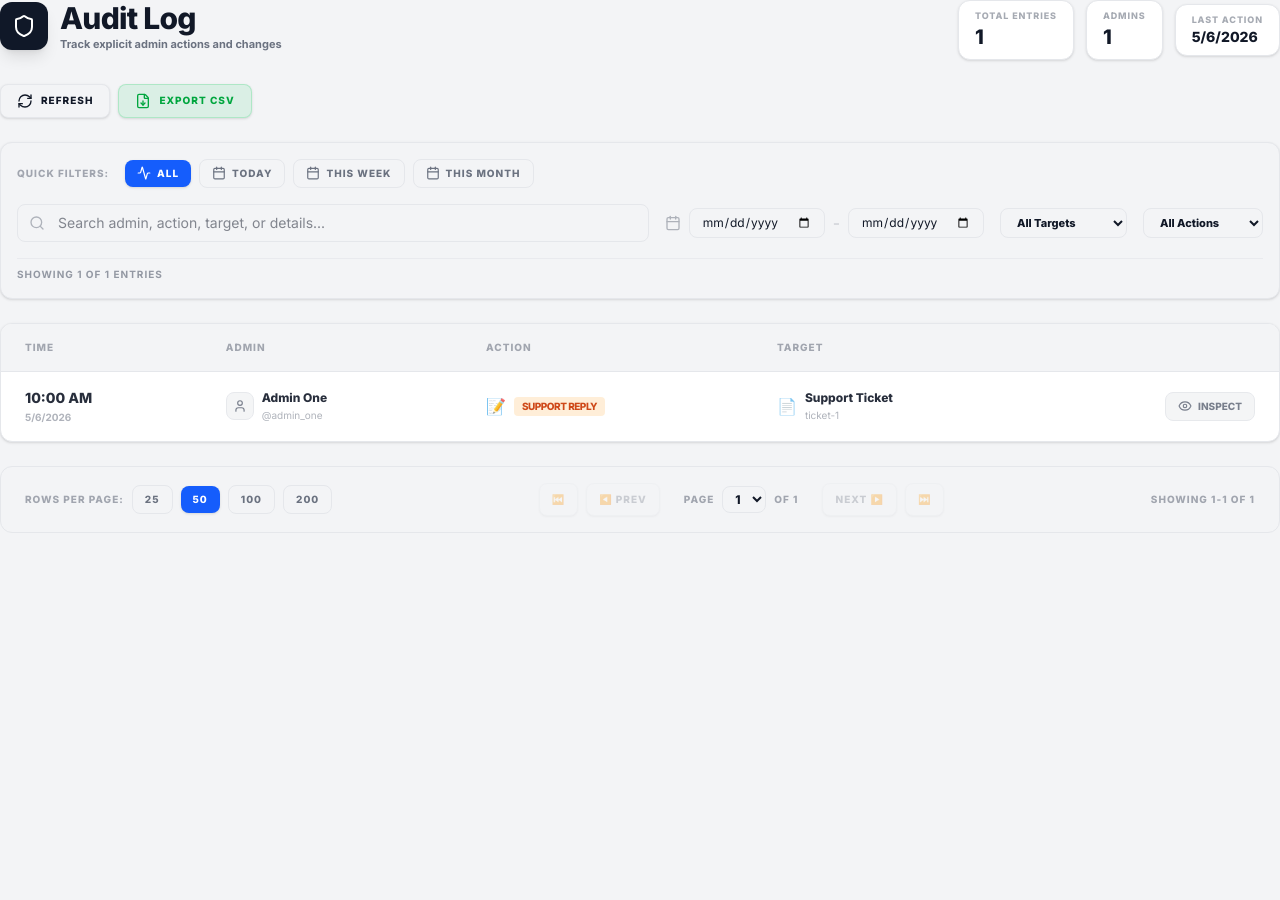
Test case: AuditLogPage › opens details without claiming cryptographic sealing
Expected: the text "Admin One" is shown, [262, 390, 327, 406]
Click the button "Inspect" at [1210, 406], box [1165, 392, 1255, 420]
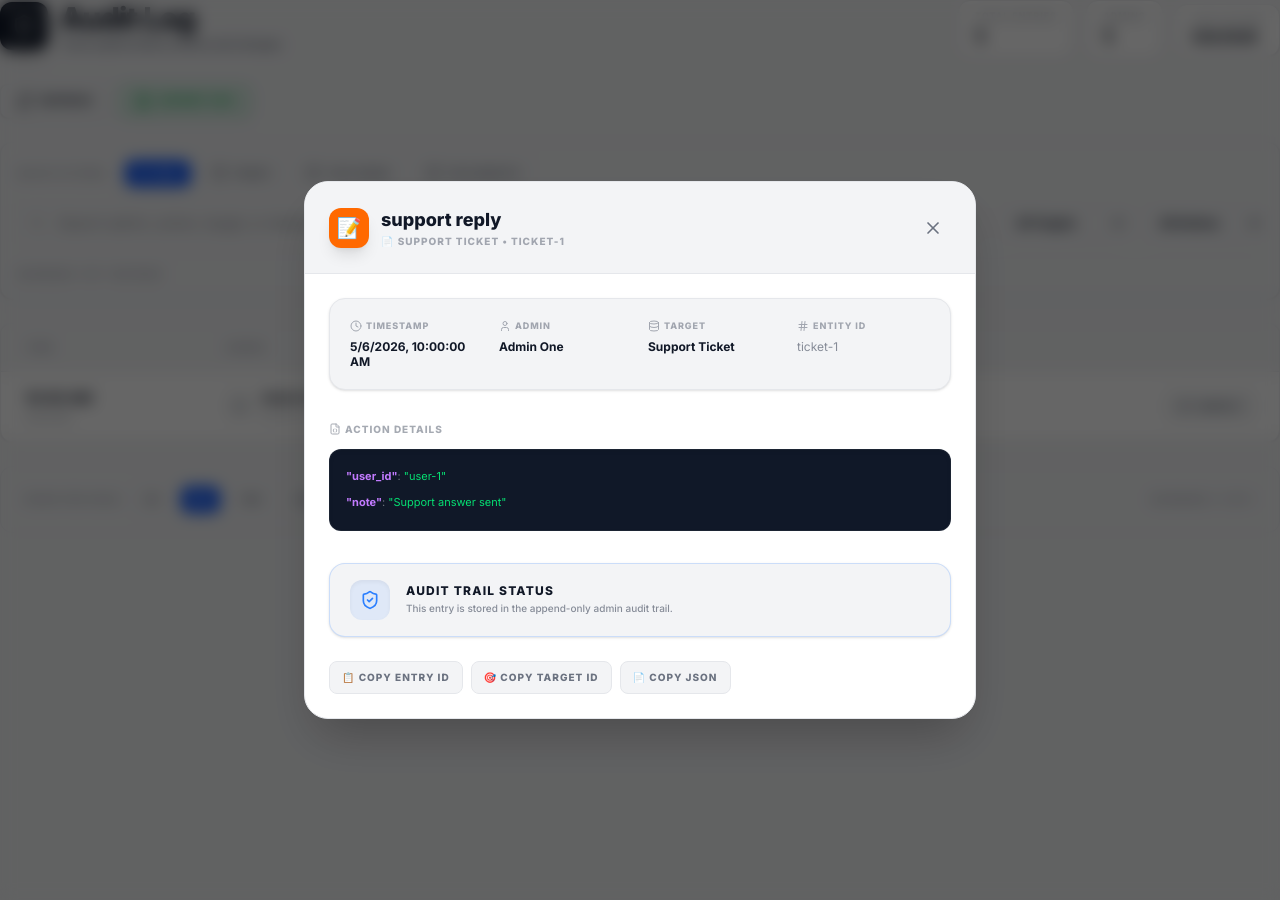
Now the heading "Action Details" is shown, box [329, 423, 443, 435]
Now the text "\"note\"" is shown, box [346, 495, 382, 509]
Now the text "\"Support answer sent\"" is shown, box [388, 495, 506, 509]
